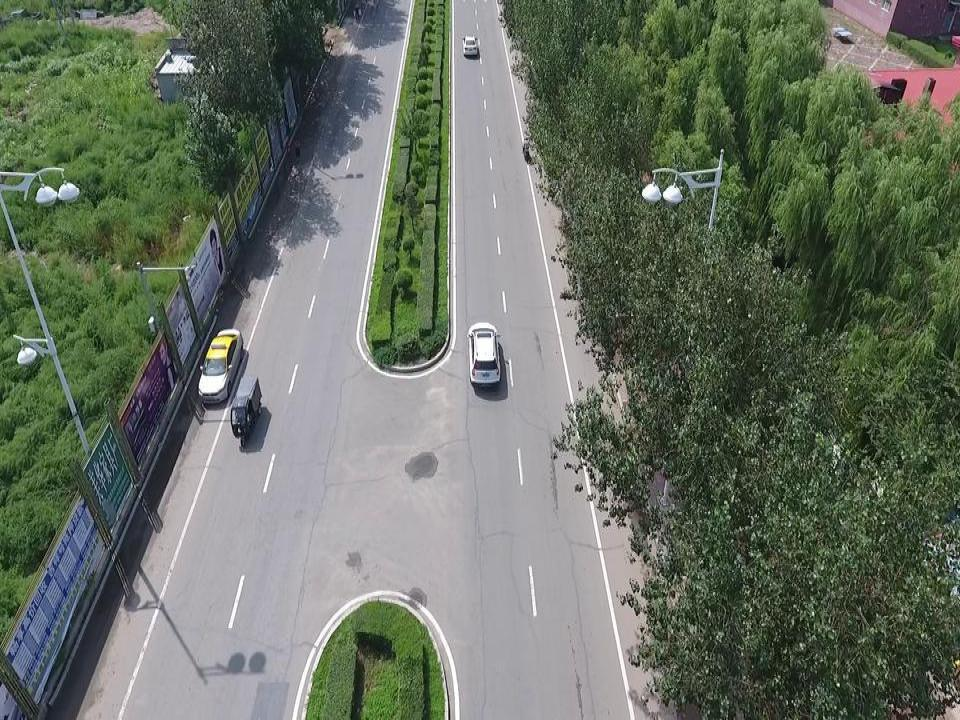car: (196, 328, 244, 404), (466, 321, 501, 387), (462, 35, 478, 56)
